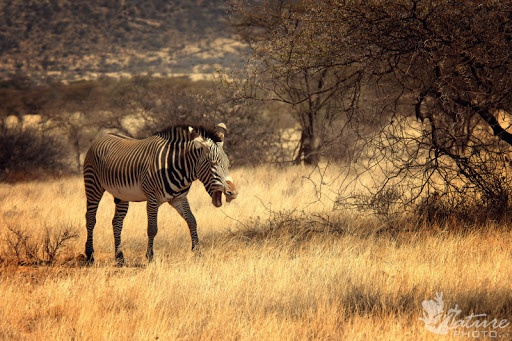zebra: (84, 120, 237, 265)
